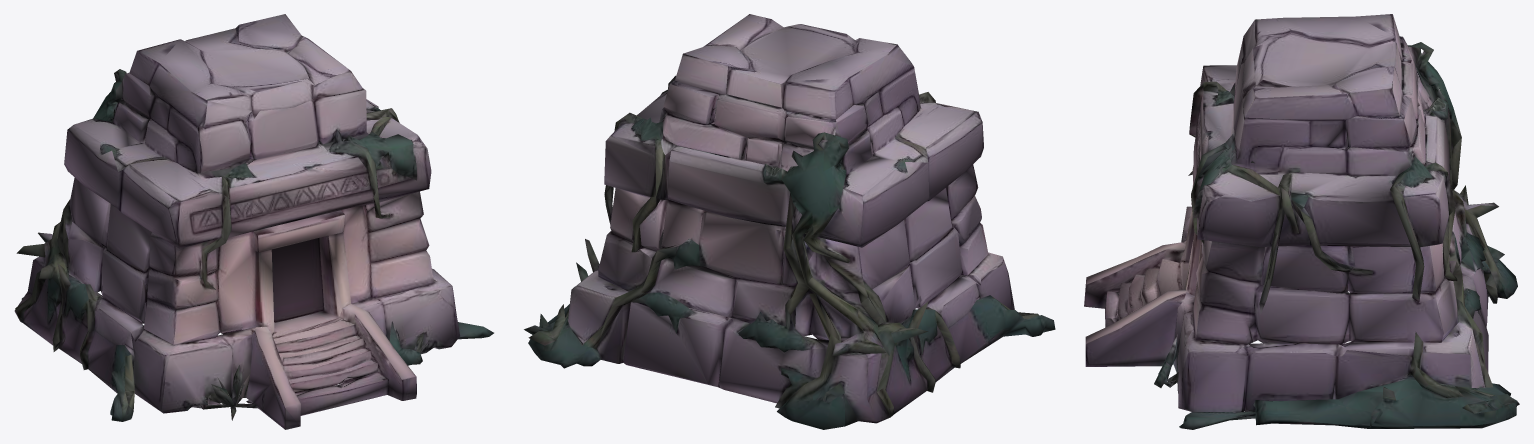
File: casa_2.glb
The picture shows the model from 3 angles, left to right: view 1: azimuth 30°, elevation 25°; view 2: azimuth 150°, elevation 25°; view 3: azimuth 270°, elevation 25°; orthographic projection. The views are drawn at different scales.
Parts seen in each view (by area): view 1: casa2; view 2: casa2; view 3: casa2.
Boxes of the visible parts, x1,y1,x2,y2 form: casa2: (14, 14, 493, 429); casa2: (524, 14, 1055, 429); casa2: (1084, 14, 1519, 429).
Size of the model in its own units: 0.8516 by 0.5841 by 0.7974.
Materials: 1 (1 with a texture image).
